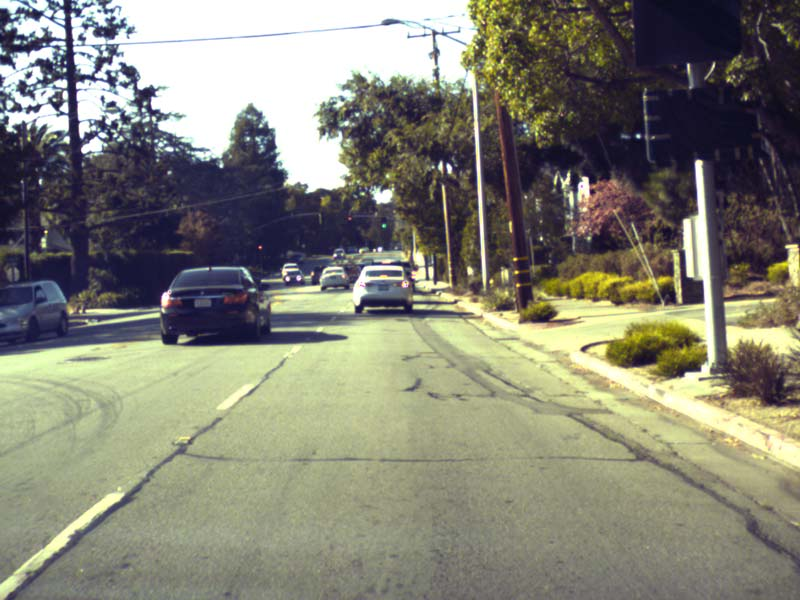Green: (380, 218, 386, 228)
Red: (347, 216, 351, 226), (257, 243, 262, 251)
